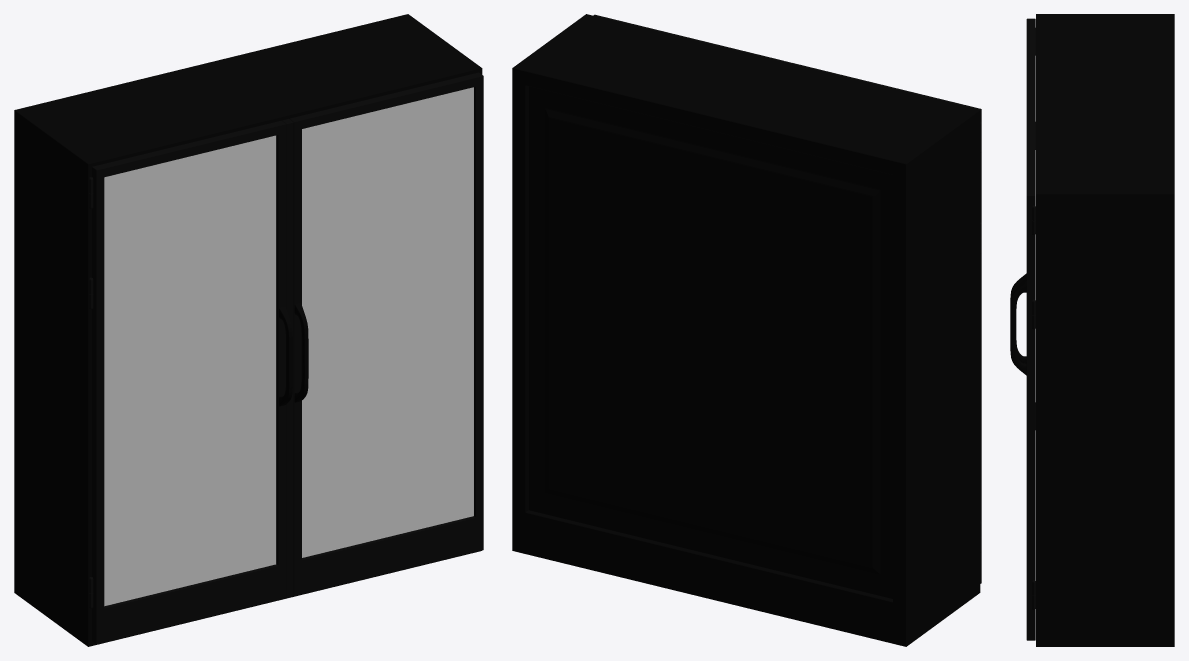
The model's file is frigo verticale3.fbx.
3 views of the same model, side by side, from view 1: azimuth 30°, elevation 25°; view 2: azimuth 150°, elevation 25°; view 3: azimuth 270°, elevation 25° (orthographic). The views are drawn at different scales.
Visible parts, largest first — view 1: AM216_31_Freezer_01, vetri_1, vetri; view 2: AM216_31_Freezer_01; view 3: AM216_31_Freezer_01.
Boxes of the visible parts, left/top/right/bottom form: AM216_31_Freezer_01: left=14, top=14, right=483, bottom=646; vetri_1: left=104, top=135, right=275, bottom=605; vetri: left=302, top=87, right=473, bottom=557; AM216_31_Freezer_01: left=512, top=14, right=981, bottom=646; AM216_31_Freezer_01: left=1010, top=14, right=1174, bottom=646.
Bounding box in the file's own units: 152 × 177 × 58.35.
